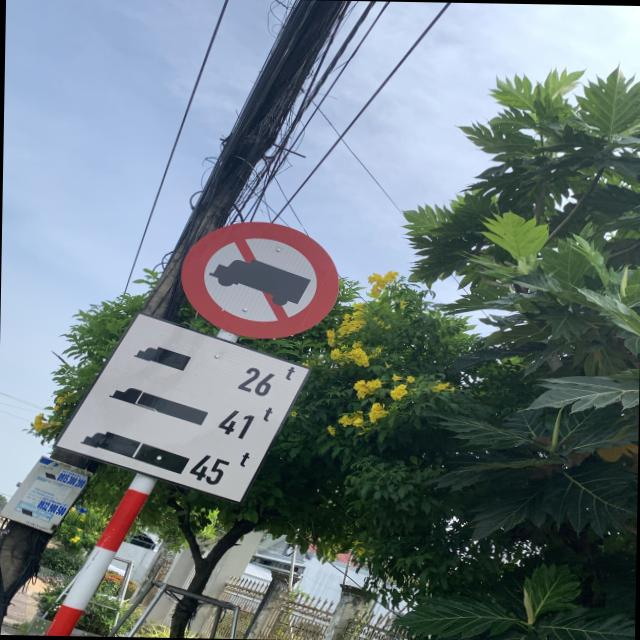Cam_Xe_Tai: (176, 220, 344, 340)
